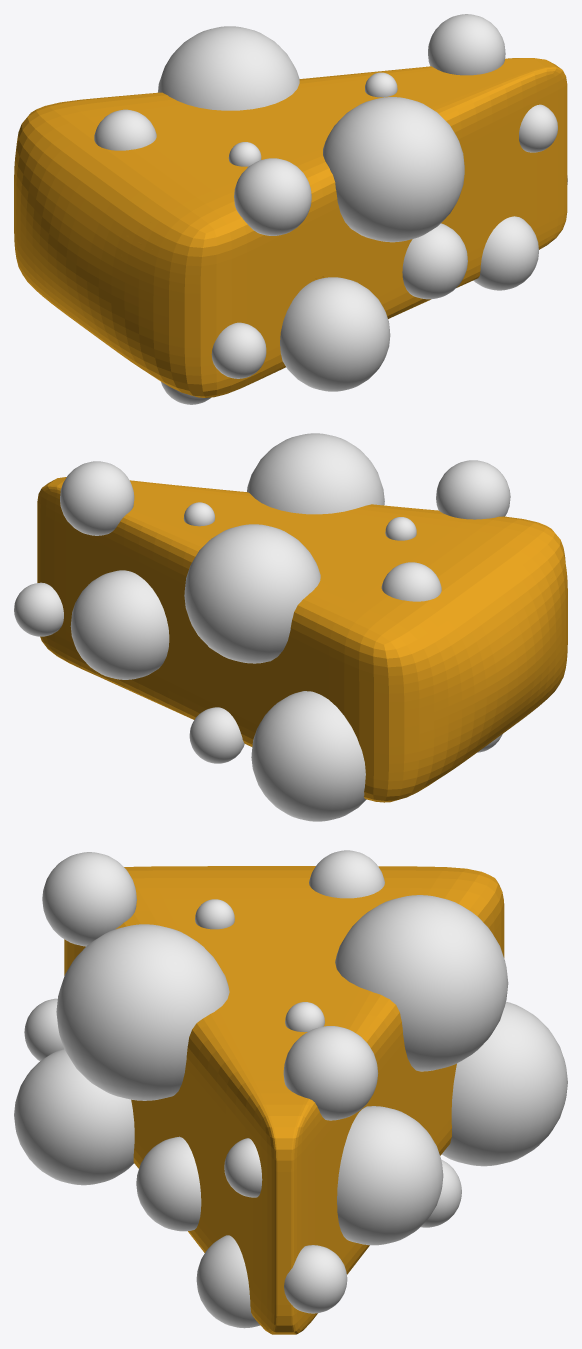
The model's file is queso.fbx.
3 renders of one model, top to bottom at view 1: azimuth 30°, elevation 25°; view 2: azimuth 150°, elevation 25°; view 3: azimuth 270°, elevation 25°, orthographic. The views are drawn at different scales.
Visible parts, largest first — view 1: Cube, Sphere.009, Sphere.008, Sphere, Retopo_Cube, Sphere.006, Sphere.003, Sphere.010, Sphere.007, Sphere.005, Sphere.013, Sphere.011 (+3 smaller); view 2: Cube, Sphere, Sphere.002, Sphere.009, Sphere.001, Retopo_Cube, Sphere.003, Sphere.006, Sphere.012, Sphere.004, Sphere.013, Retopo_Cube.001 (+2 smaller); view 3: Cube, Sphere.009, Sphere, Sphere.002, Sphere.001, Sphere.008, Retopo_Cube, Sphere.006, Sphere.003, Sphere.010, Sphere.007, Sphere.004 (+7 smaller).
Part boxes in pixels (<box>): Cube: <box>14,58,567,397</box>; Sphere.009: <box>323,97,464,242</box>; Sphere.008: <box>280,277,390,391</box>; Sphere: <box>158,26,299,110</box>; Retopo_Cube: <box>20,75,518,290</box>; Sphere.006: <box>234,158,311,235</box>; Sphere.003: <box>428,14,505,75</box>; Sphere.010: <box>402,223,467,299</box>; Sphere.007: <box>473,216,538,290</box>; Sphere.005: <box>211,322,266,378</box>; Sphere.013: <box>94,109,156,150</box>; Sphere.011: <box>519,104,557,152</box>; Cube: <box>37,477,567,802</box>; Sphere: <box>184,524,320,663</box>; Sphere.002: <box>251,691,366,821</box>; Sphere.009: <box>247,433,384,514</box>; Sphere.001: <box>70,570,169,679</box>; Retopo_Cube: <box>116,504,562,781</box>; Sphere.003: <box>60,461,134,535</box>; Sphere.006: <box>436,460,510,519</box>; Sphere.012: <box>189,707,244,763</box>; Sphere.004: <box>14,582,63,636</box>; Sphere.013: <box>381,562,441,601</box>; Retopo_Cube.001: <box>163,550,320,699</box>; Cube: <box>64,866,504,1334</box>; Sphere.009: <box>56,924,229,1100</box>; Sphere: <box>335,895,508,1071</box>; Sphere.002: <box>441,1001,567,1166</box>; Sphere.001: <box>337,1106,443,1245</box>; Sphere.008: <box>14,1049,134,1185</box>; Retopo_Cube: <box>131,922,456,1235</box>; Sphere.006: <box>42,852,136,946</box>; Sphere.003: <box>283,1026,378,1120</box>; Sphere.010: <box>136,1136,201,1231</box>; Sphere.007: <box>196,1235,260,1328</box>; Sphere.004: <box>284,1245,347,1313</box>.
Bounding box in the file's own units: 300 × 149 × 232.
